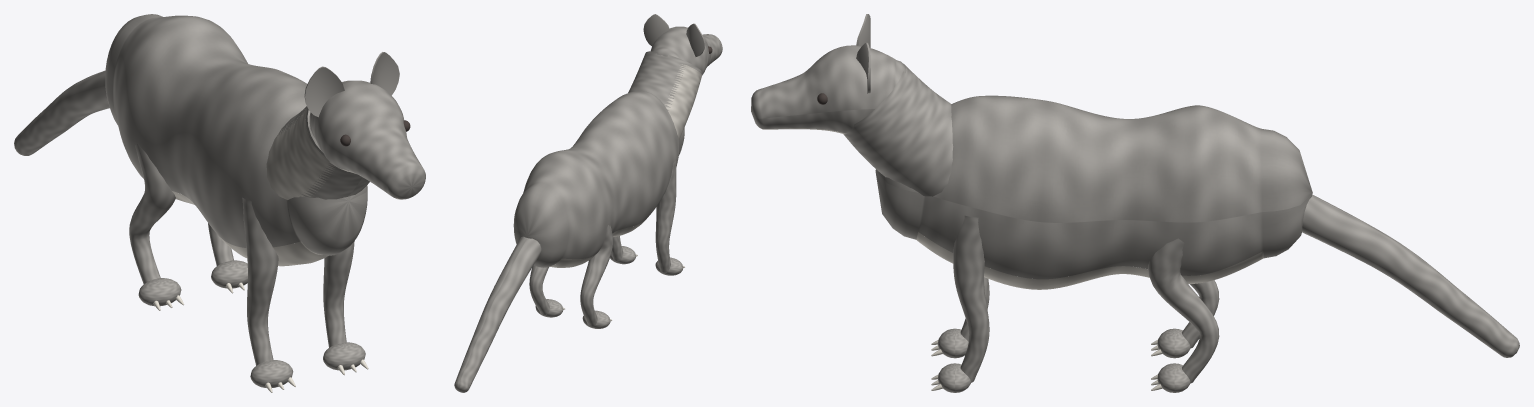
File: other-grey-wolf.glb
The picture shows the model from 3 angles, left to right: view 1: azimuth 30°, elevation 25°; view 2: azimuth 150°, elevation 25°; view 3: azimuth 270°, elevation 25°; orthographic projection. The views are drawn at different scales.
Visible parts, largest first — view 1: grey-wolf; view 2: grey-wolf; view 3: grey-wolf.
Part boxes in pixels (left/top/right/bottom): grey-wolf: left=14, top=14, right=425, bottom=392; grey-wolf: left=454, top=14, right=722, bottom=392; grey-wolf: left=751, top=14, right=1519, bottom=392.
Size of the model in its own units: 0.3575 by 1.03 by 2.09.
5 materials, 2 textured.
